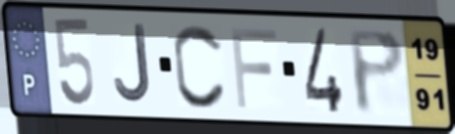4: (302, 26, 345, 115)
5: (51, 16, 97, 108)
C: (170, 20, 229, 112)
F: (227, 24, 280, 112)
J: (111, 22, 155, 107)
P: (344, 27, 408, 119)
